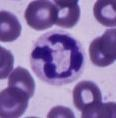N: (29, 32, 86, 85)
